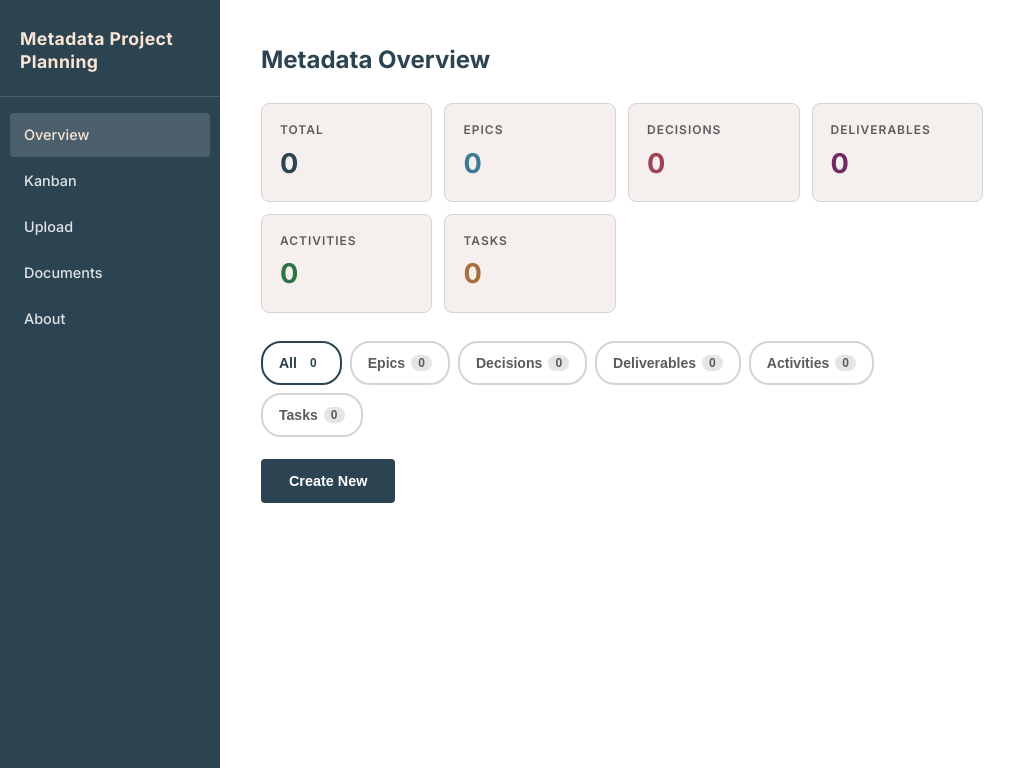
Scenario: App Integration Tests › maintains navigation state across page changes
The width and height of the screenshot is (1024, 768).
expect the heading "Metadata Overview" is shown: met, box [261, 45, 490, 74]
What coordinates should you click on to do the following:
click the link with aria-label "Upload a new document"
I would click on:
 (49, 227)
Its box is [24, 218, 73, 235].
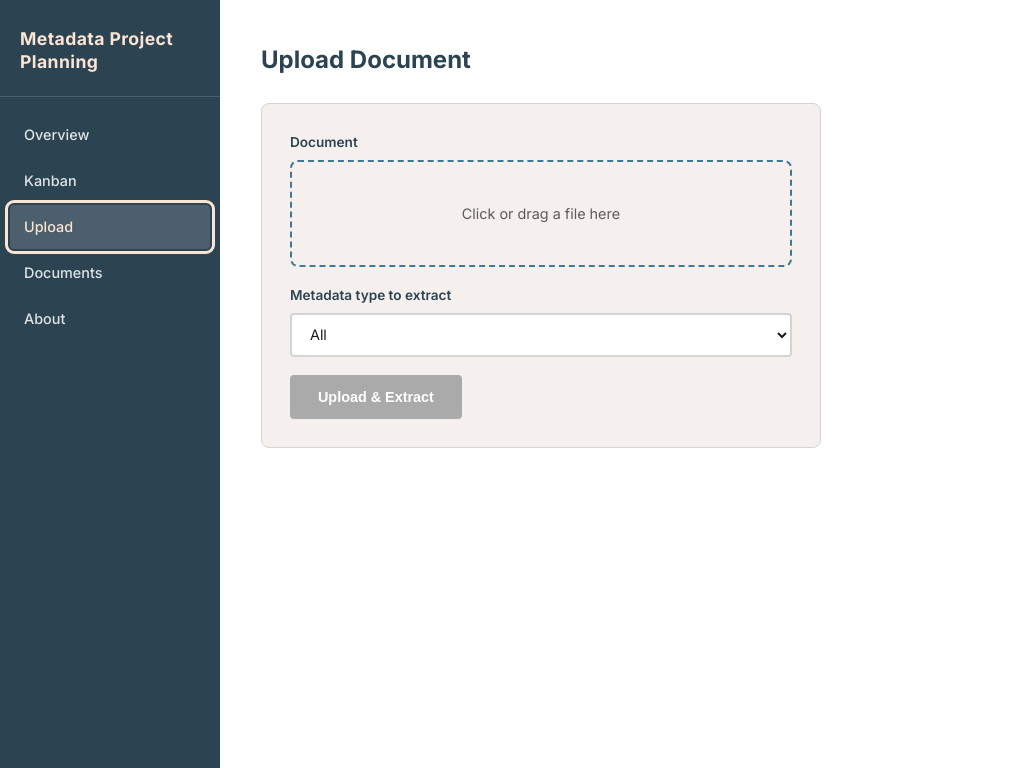
expect the heading "Upload Document" is shown: met, box [261, 45, 471, 74]
What coordinates should you click on to do the following:
click the link with aria-label "Learn about this tool"
I would click on:
 (45, 319)
Its box is [24, 310, 65, 327].
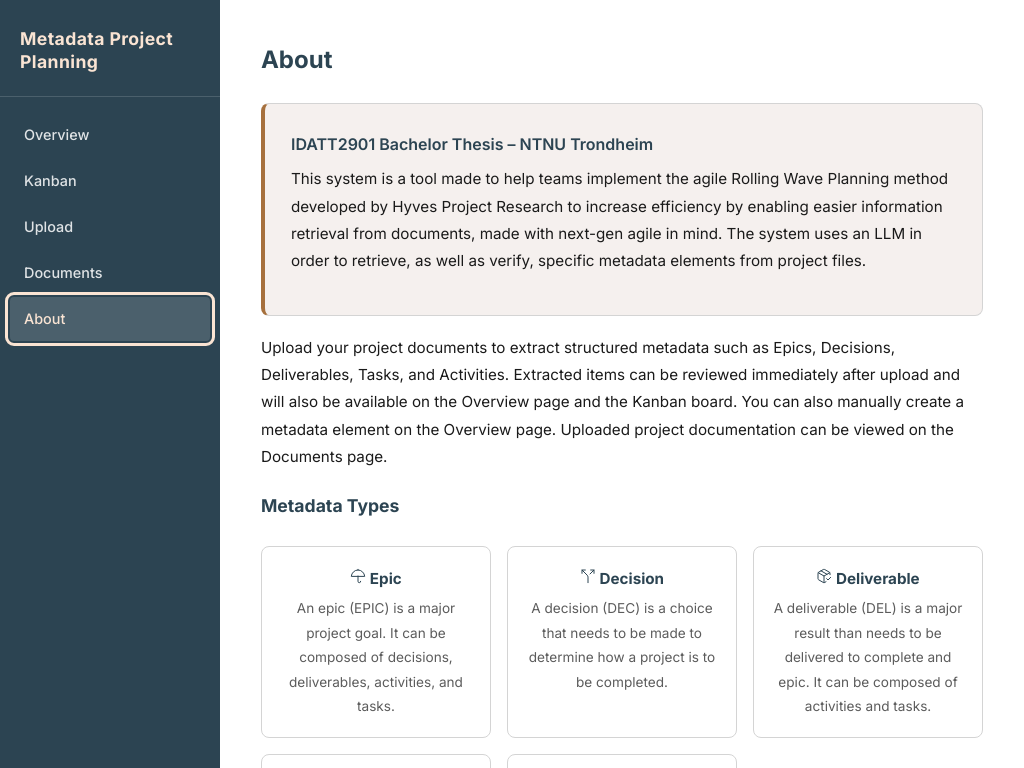
expect the heading "About" is shown: met, box [261, 45, 332, 74]
